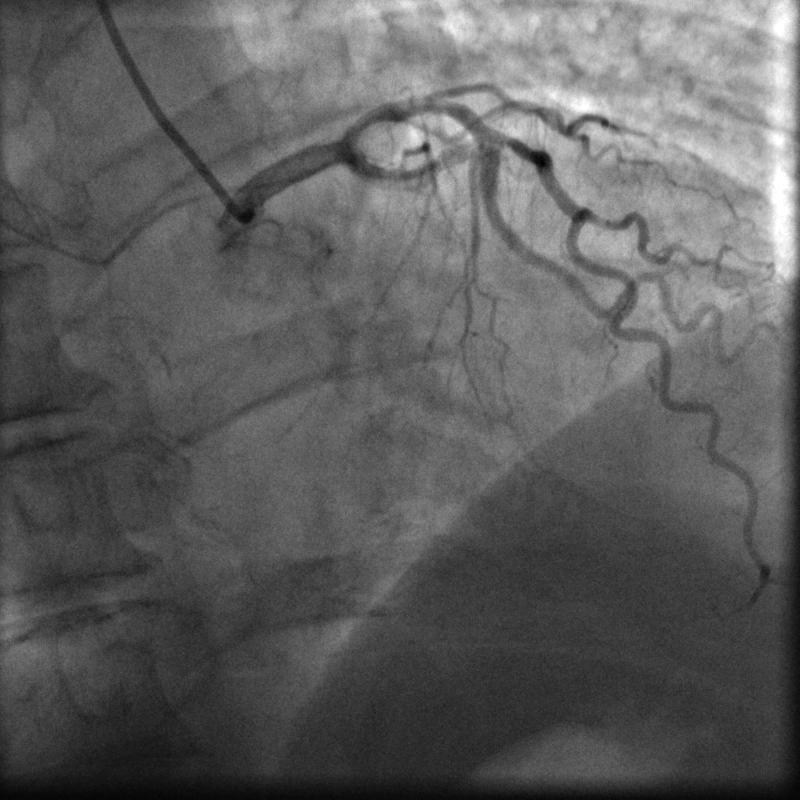Stenosis: (447, 135, 494, 161)
